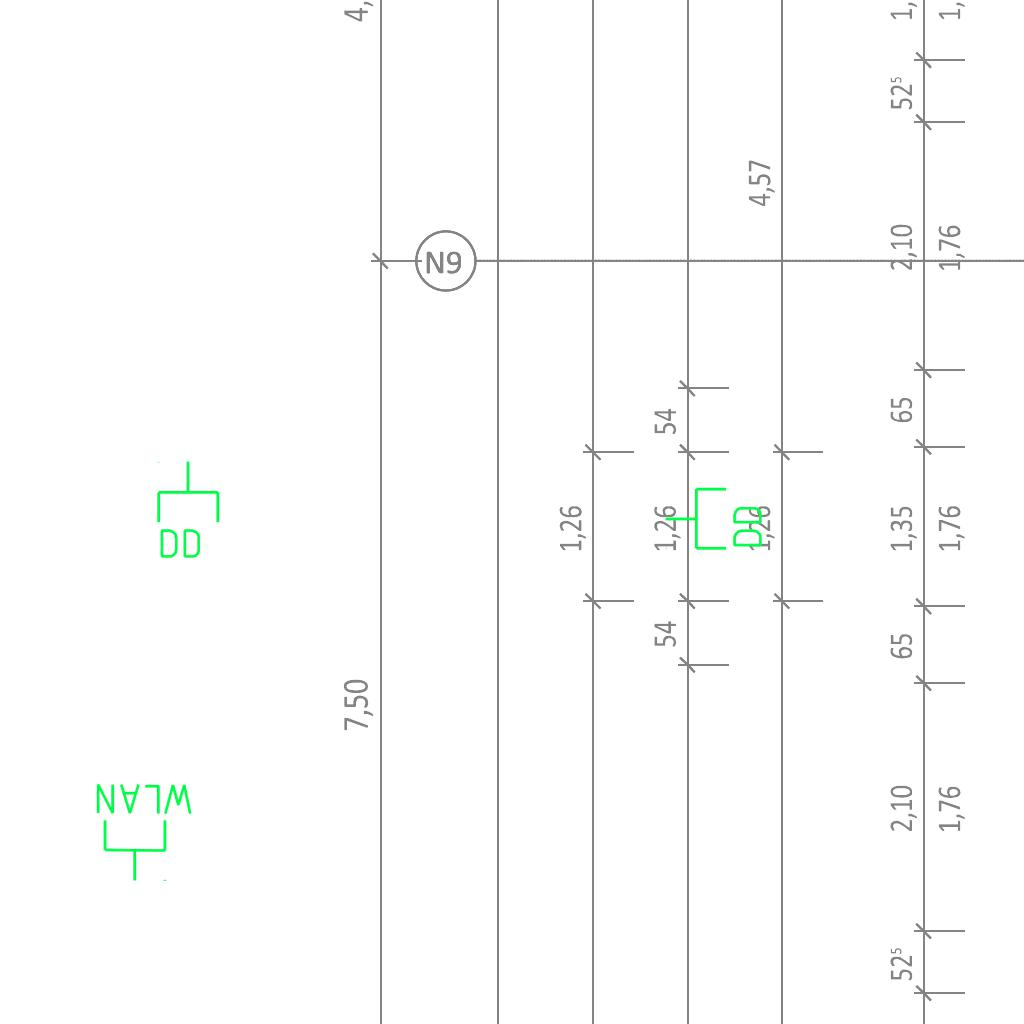Datenanschluss_zweifach: (153, 459, 222, 562), (663, 485, 766, 554)
WLAN: (92, 780, 197, 884)
